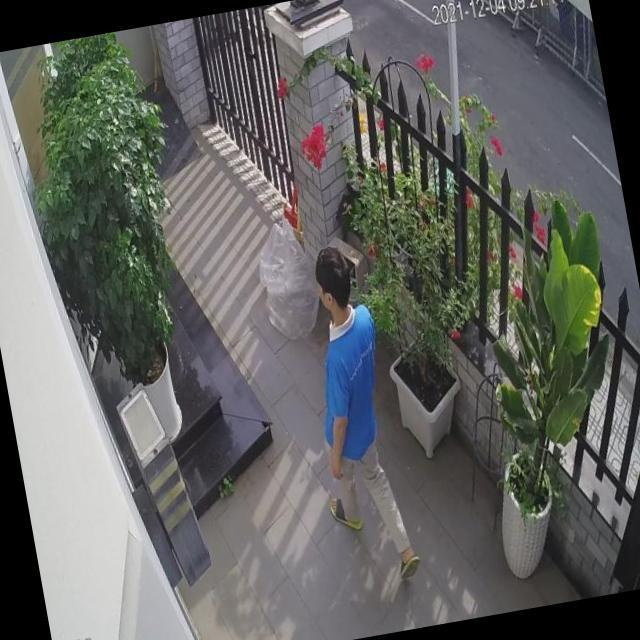person: (282, 236, 418, 594)
